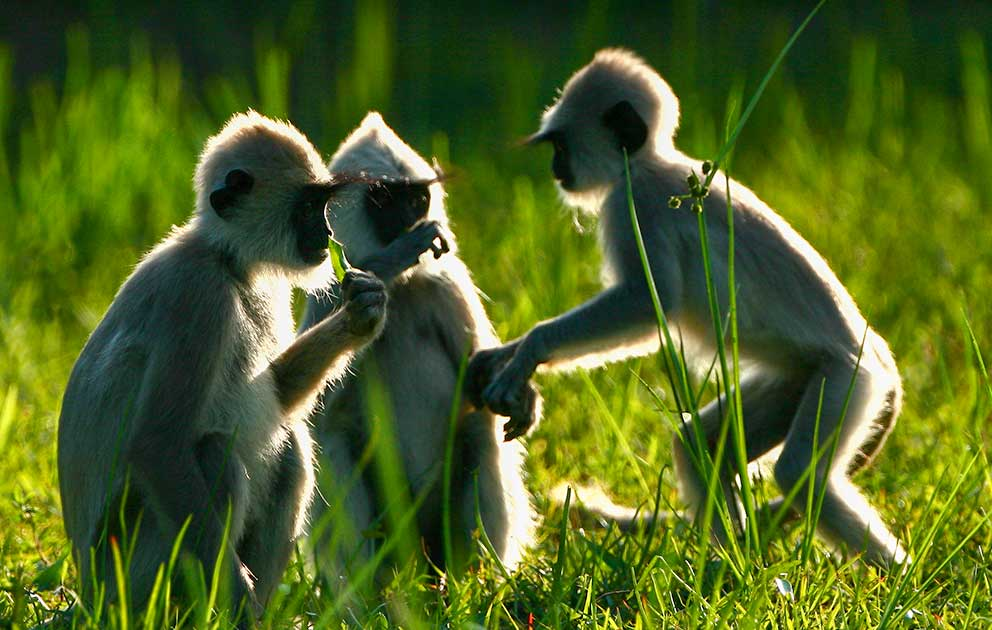Monkey: (511, 20, 911, 596), (56, 91, 343, 601), (337, 71, 515, 621)
